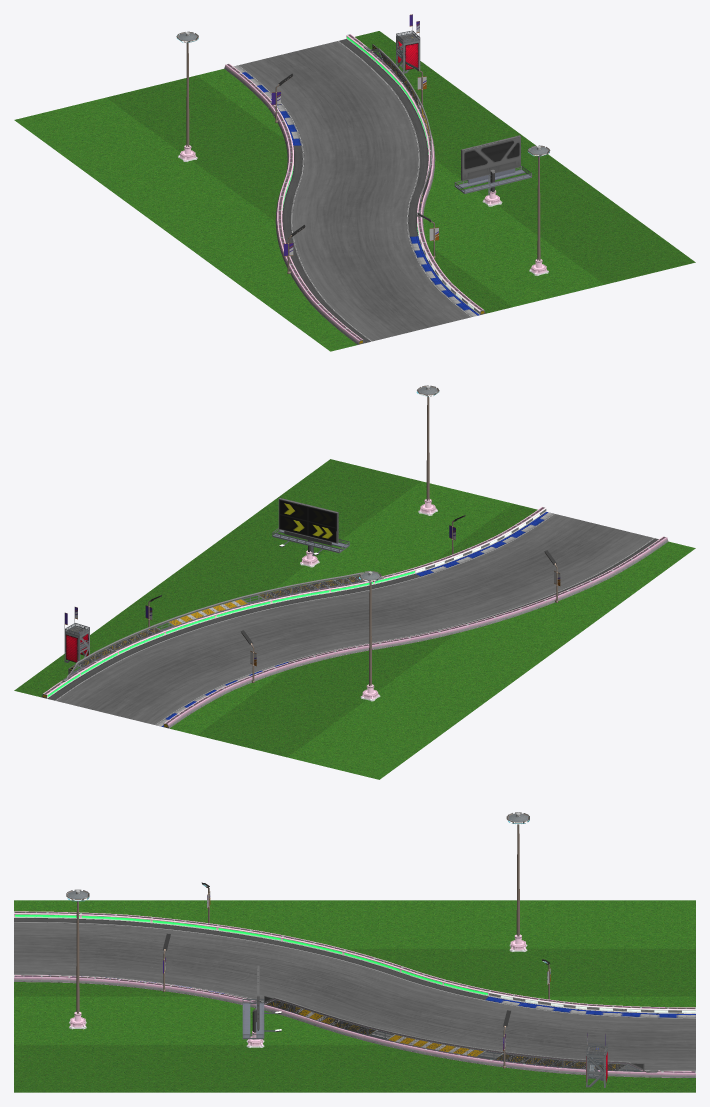
The picture shows the model from 3 angles, top to bottom: view 1: azimuth 30°, elevation 25°; view 2: azimuth 150°, elevation 25°; view 3: azimuth 270°, elevation 25°; orthographic projection. The views are drawn at different scales.
Parts seen in each view (by area): view 1: standard_ground_grass, straight_road, wall_Steering3, prop_billboard_right, pro_camera_tower, standard_arrow_right, pro_floodlight_overhead_1, pro_floodlight_overhead; view 2: standard_ground_grass, straight_road, wall_Steering3, standard_arrow_right, prop_billboard_right, pro_camera_tower; view 3: standard_ground_grass, straight_road, wall_Steering3, standard_arrow_right, prop_billboard_right, pro_camera_tower, pro_floodlight_overhead_1, pro_floodlight_overhead.
Part boxes in pixels (<box>): standard_ground_grass: <box>14,31,695,351</box>; straight_road: <box>233,39,479,343</box>; wall_Steering3: <box>224,34,485,344</box>; prop_billboard_right: <box>454,135,531,195</box>; pro_camera_tower: <box>396,30,420,73</box>; standard_arrow_right: <box>363,44,432,216</box>; pro_floodlight_overhead_1: <box>527,145,550,260</box>; pro_floodlight_overhead: <box>176,31,198,146</box>; standard_ground_grass: <box>14,459,695,779</box>; straight_road: <box>47,512,658,726</box>; wall_Steering3: <box>41,507,668,728</box>; standard_arrow_right: <box>62,571,383,681</box>; prop_billboard_right: <box>272,498,349,555</box>; pro_camera_tower: <box>64,623,89,662</box>; standard_ground_grass: <box>14,900,695,1092</box>; straight_road: <box>14,918,695,1071</box>; wall_Steering3: <box>14,911,695,1077</box>; standard_arrow_right: <box>256,996,658,1072</box>; prop_billboard_right: <box>242,965,281,1039</box>; pro_camera_tower: <box>586,1043,607,1087</box>; pro_floodlight_overhead_1: <box>66,889,89,1013</box>; pro_floodlight_overhead: <box>506,812,529,936</box>.
Size of the model in its own units: 12800 by 4210 by 19200.
